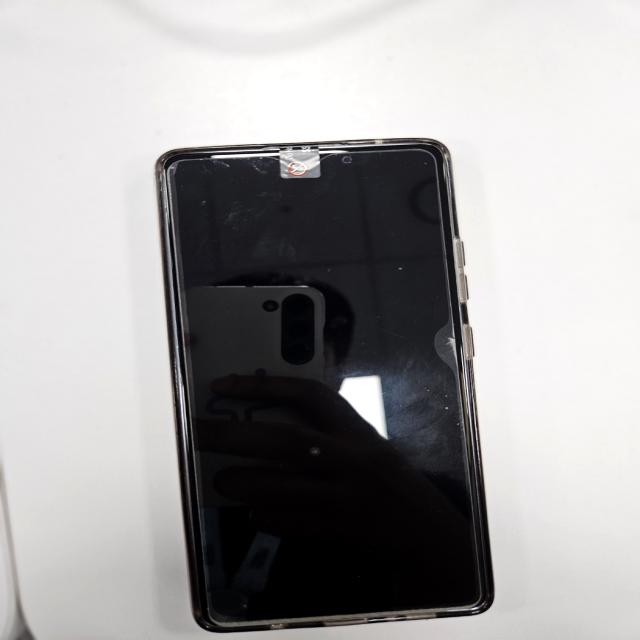phone: (147, 137, 498, 635)
sticker: (278, 140, 322, 186)
